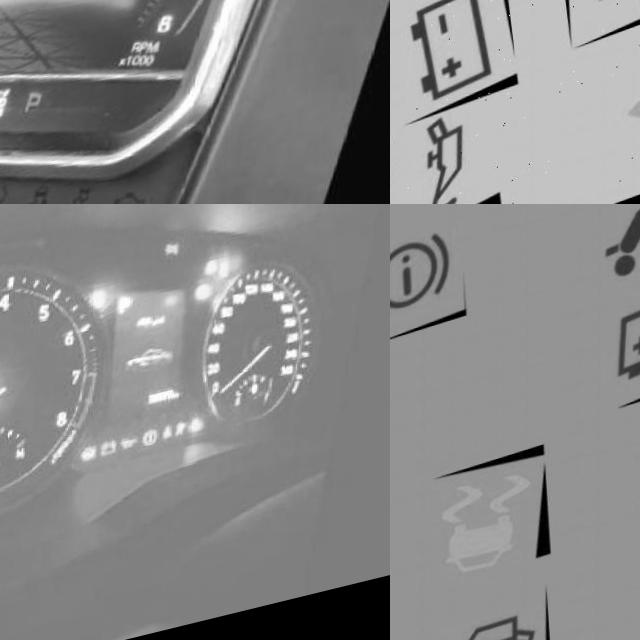Seat Belt: (171, 432, 184, 449)
